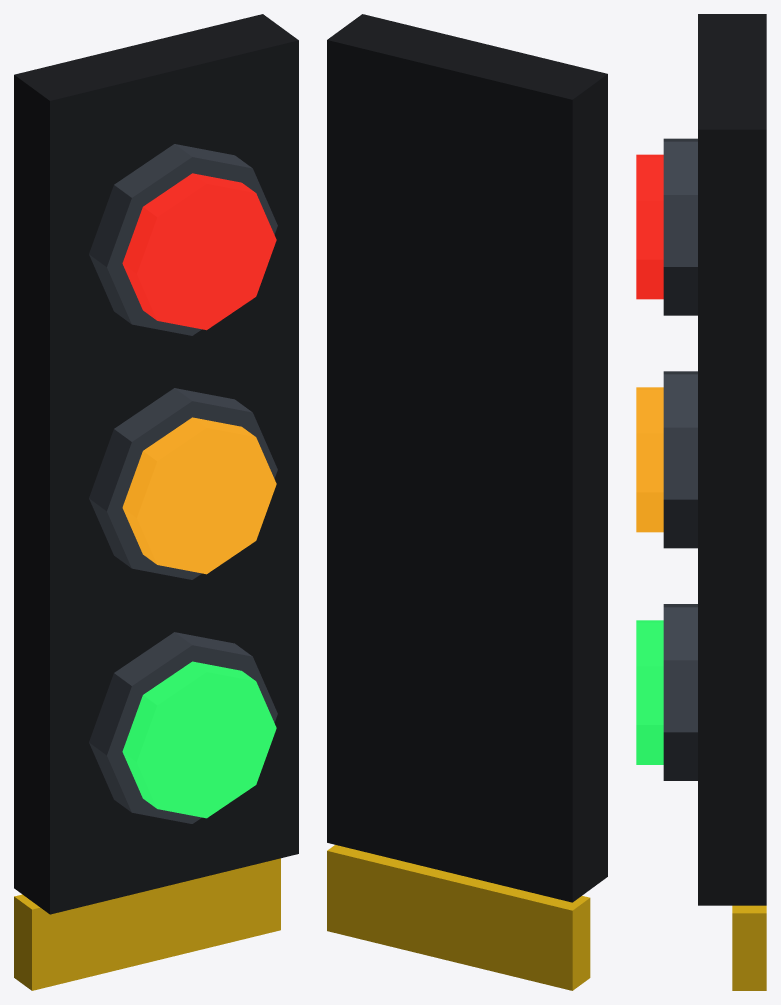
File: beacon_airlock_status_light.glb
The picture shows the model from 3 angles, left to right: view 1: azimuth 30°, elevation 25°; view 2: azimuth 150°, elevation 25°; view 3: azimuth 270°, elevation 25°; orthographic projection. The views are drawn at different scales.
Visible parts, largest first — view 1: beacon_airlock_status_light; view 2: beacon_airlock_status_light; view 3: beacon_airlock_status_light.
Part boxes in pixels (bbox=[...]): beacon_airlock_status_light: bbox=[14, 14, 298, 990]; beacon_airlock_status_light: bbox=[327, 14, 607, 990]; beacon_airlock_status_light: bbox=[636, 14, 766, 990].
Size of the model in its own units: 0.16 by 0.555 by 0.076.
